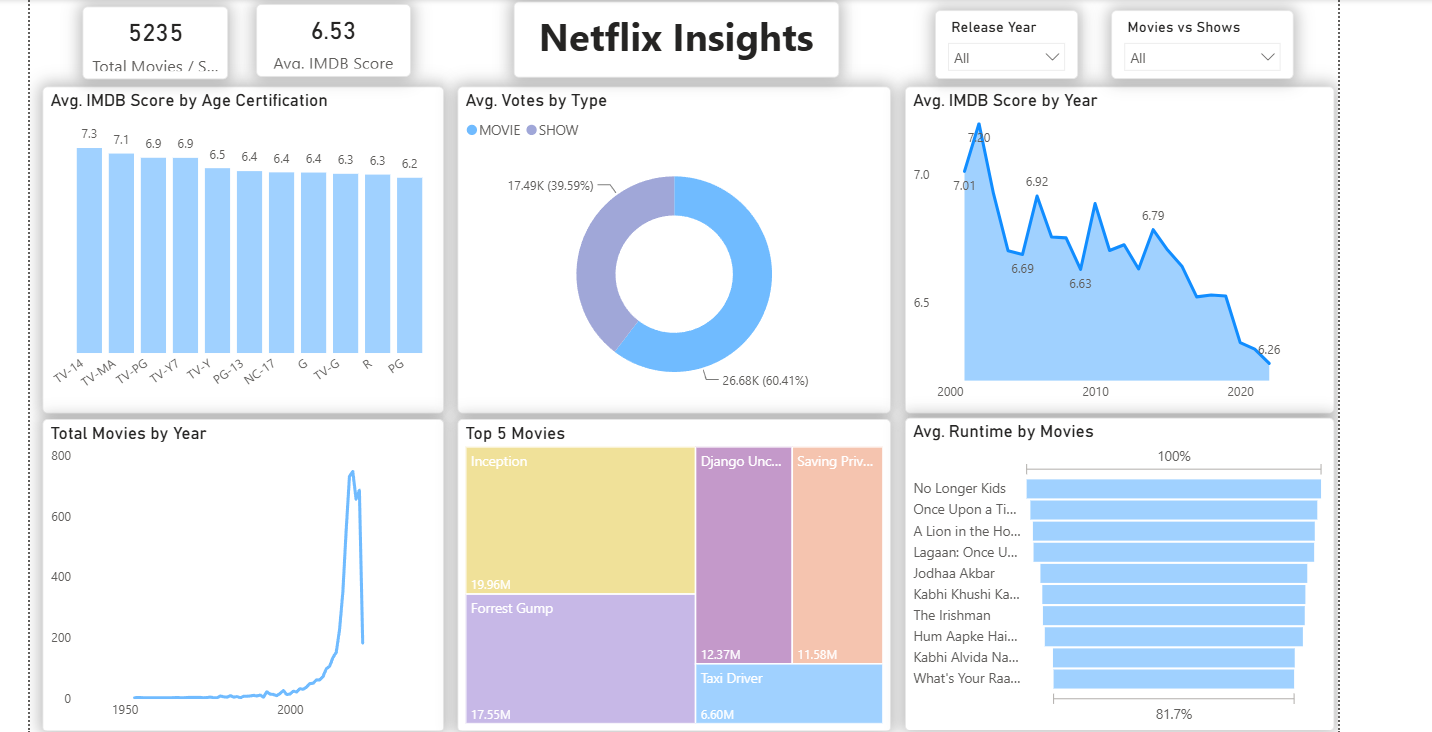

The dashboard page shown, as its layout file describes it:
{"tool":"powerbi","page":{"name":"Page 1","canvas":[1280,720],"ordinal":0},"visuals":[{"type":"clusteredColumnChart","title":"Avg. IMDB Score by Age Certification","fields":{"Category":["Netflix TV Shows and Movies.age_certification"],"Y":["Avg(Netflix TV Shows and Movies.imdb_score)"]},"box":[12.3,85.1,392.5,319.7],"z":0},{"type":"lineChart","title":"Total Movies by Year","fields":{"Category":["Netflix TV Shows and Movies.release_year"],"Y":["Count(Netflix TV Shows and Movies.title)"]},"box":[12.3,410.3,392.5,306],"z":1000},{"type":"donutChart","title":"Avg. Votes by Type","fields":{"Category":["Netflix TV Shows and Movies.type"],"Y":["Avg(Netflix TV Shows and Movies.imdb_votes)"]},"box":[418.5,85.1,424,319.7],"z":2000},{"type":"treemap","title":"Top 5 Movies","fields":{"Group":["Netflix TV Shows and Movies.title"],"Values":["Sum(Netflix TV Shows and Movies.Overall_Performance)"]},"box":[418.5,410.3,424,306],"z":3000},{"type":"areaChart","title":"Avg. IMDB Score by Year","fields":{"Category":["Netflix TV Shows and Movies.release_year"],"Y":["Avg(Netflix TV Shows and Movies.imdb_score)"]},"box":[856.3,85.1,419.9,319.7],"z":4000},{"type":"funnel","title":"Avg. Runtime by Movies","fields":{"Category":["Netflix TV Shows and Movies.title"],"Y":["Avg(Netflix TV Shows and Movies.runtime)"]},"box":[856,410,420,306],"z":5000},{"type":"card","fields":{"Values":["Avg(Netflix TV Shows and Movies.imdb_score)"]},"box":[221.3,5.5,150.9,71.4],"z":6000},{"type":"card","fields":{"Values":["Count(Netflix TV Shows and Movies.title)"]},"box":[26.1,6.9,167.4,71.4],"z":7000},{"type":"textbox","box":[473.4,2.7,318.4,74.1],"z":8000},{"type":"slicer","fields":{"Values":["Netflix TV Shows and Movies.release_year"]},"box":[885.5,11,140,67.2],"z":9000},{"type":"slicer","fields":{"Values":["Netflix TV Shows and Movies.type"]},"box":[1058.4,11,178.4,67.2],"z":10000}]}

Visuals, with their boxes in screenshot pixels (x1, y1, x2, y2):
"Avg. IMDB Score by Age Certification" clusteredColumnChart: (x1=28, y1=81, x2=435, y2=413)
"Total Movies by Year" lineChart: (x1=28, y1=418, x2=435, y2=731)
"Avg. Votes by Type" donutChart: (x1=449, y1=81, x2=889, y2=413)
"Top 5 Movies" treemap: (x1=449, y1=418, x2=889, y2=731)
"Avg. IMDB Score by Year" areaChart: (x1=904, y1=81, x2=1340, y2=413)
"Avg. Runtime by Movies" funnel: (x1=903, y1=418, x2=1339, y2=731)
card - Avg(Netflix TV Shows and Movies.imdb_score): (x1=245, y1=0, x2=401, y2=72)
card - Count(Netflix TV Shows and Movies.title): (x1=42, y1=0, x2=216, y2=74)
textbox: (x1=506, y1=0, x2=837, y2=72)
slicer - Netflix TV Shows and Movies.release_year: (x1=934, y1=4, x2=1079, y2=74)
slicer - Netflix TV Shows and Movies.type: (x1=1113, y1=4, x2=1299, y2=74)
